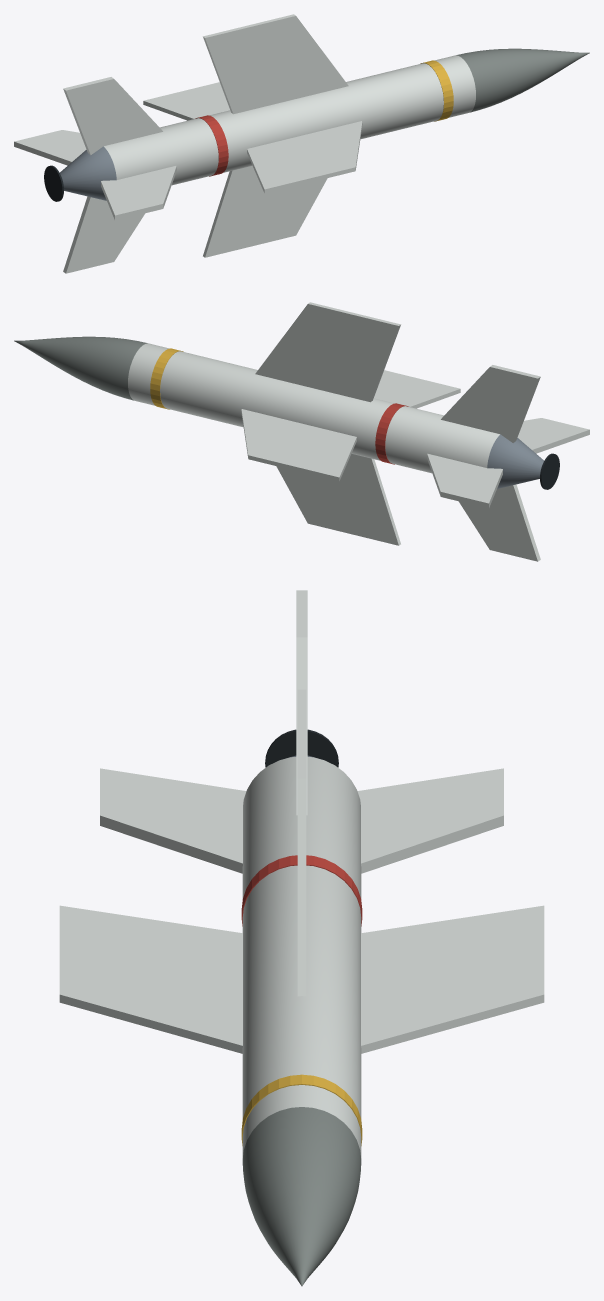
File: kinzhal_family.glb
3 renders of one model, top to bottom at view 1: azimuth 30°, elevation 25°; view 2: azimuth 150°, elevation 25°; view 3: azimuth 270°, elevation 25°, orthographic. The views are drawn at different scales.
Parts seen in each view (by area): view 1: kinzhal_family; view 2: kinzhal_family; view 3: kinzhal_family.
Part boxes in pixels (box(x1,y1,x2,y2)): kinzhal_family: box(14, 14, 589, 273); kinzhal_family: box(14, 302, 589, 561); kinzhal_family: box(59, 590, 544, 1286).
Bounding box in the file's own units: 10 × 3.91 × 3.91.
